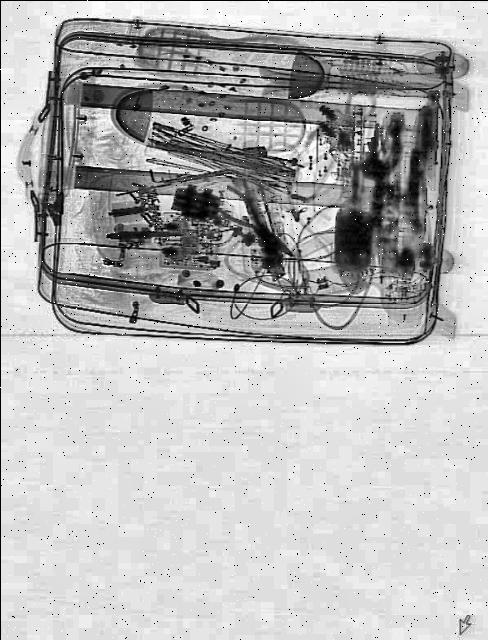Pliers: (211, 182, 300, 270)
